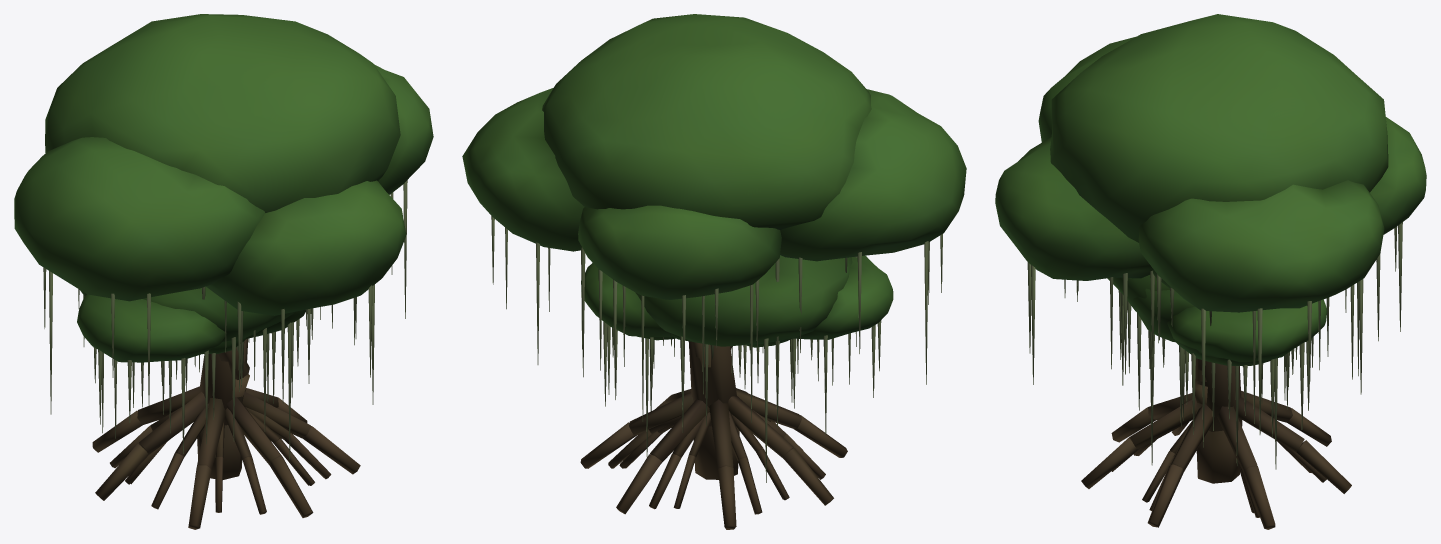
The model's file is manglares-B0TtpeRw.glb.
3 views of the same model, side by side, from view 1: azimuth 30°, elevation 25°; view 2: azimuth 150°, elevation 25°; view 3: azimuth 270°, elevation 25° (orthographic).
Visible parts, largest first — view 1: Manglar de borde, Manglar C, Manglar A; view 2: Manglar de borde, Manglar C, Manglar A, Manglar B; view 3: Manglar de borde, Manglar C, Manglar A.
Part boxes in pixels (x1=…): Manglar de borde: x1=14, y1=14, x2=433, y2=529; Manglar C: x1=77, y1=286, x2=331, y2=514; Manglar A: x1=125, y1=309, x2=314, y2=512; Manglar de borde: x1=462, y1=14, x2=966, y2=529; Manglar C: x1=581, y1=255, x2=893, y2=514; Manglar A: x1=607, y1=325, x2=812, y2=508; Manglar B: x1=624, y1=337, x2=783, y2=507; Manglar de borde: x1=995, y1=14, x2=1426, y2=529; Manglar C: x1=1107, y1=275, x2=1327, y2=517; Manglar A: x1=1133, y1=288, x2=1297, y2=513.
Size of the model in its own units: 14.07 by 13.8 by 12.27.
